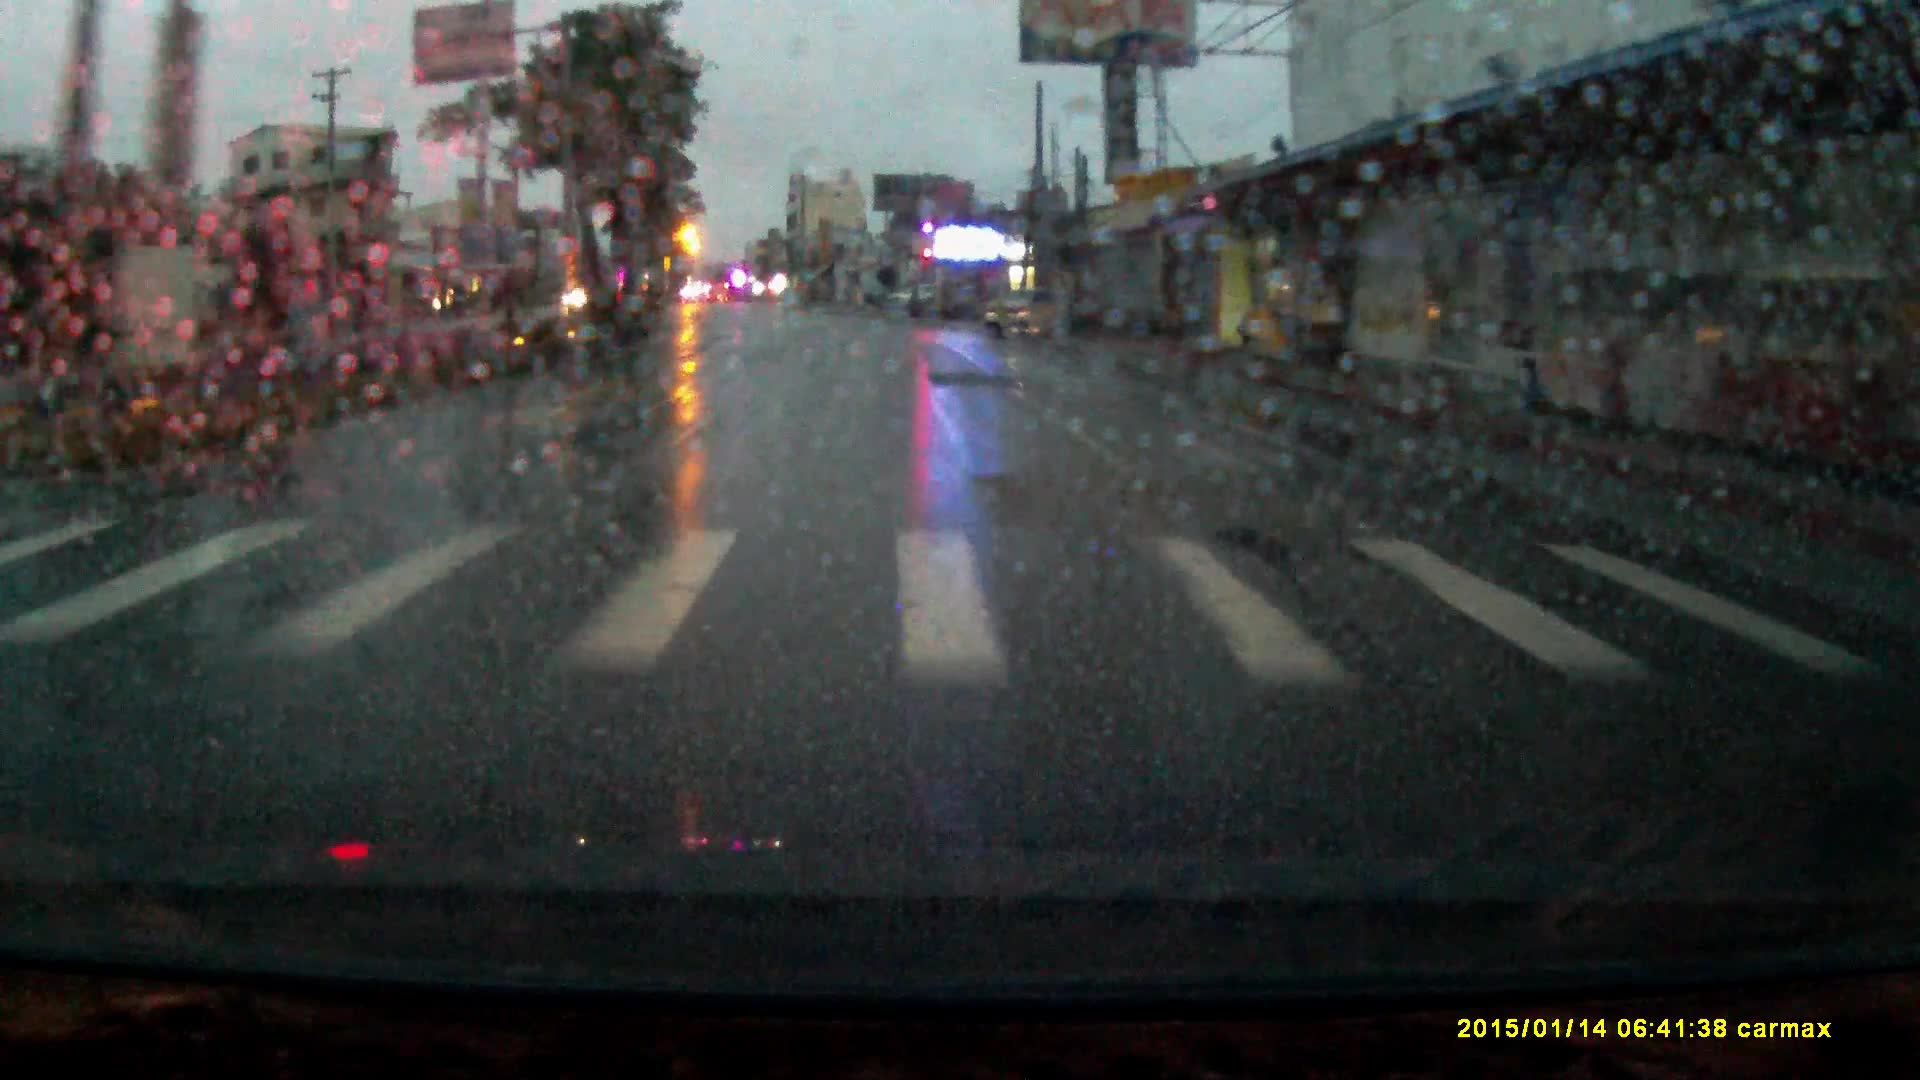vehicle: (985, 287, 1073, 334), (886, 278, 938, 307)
